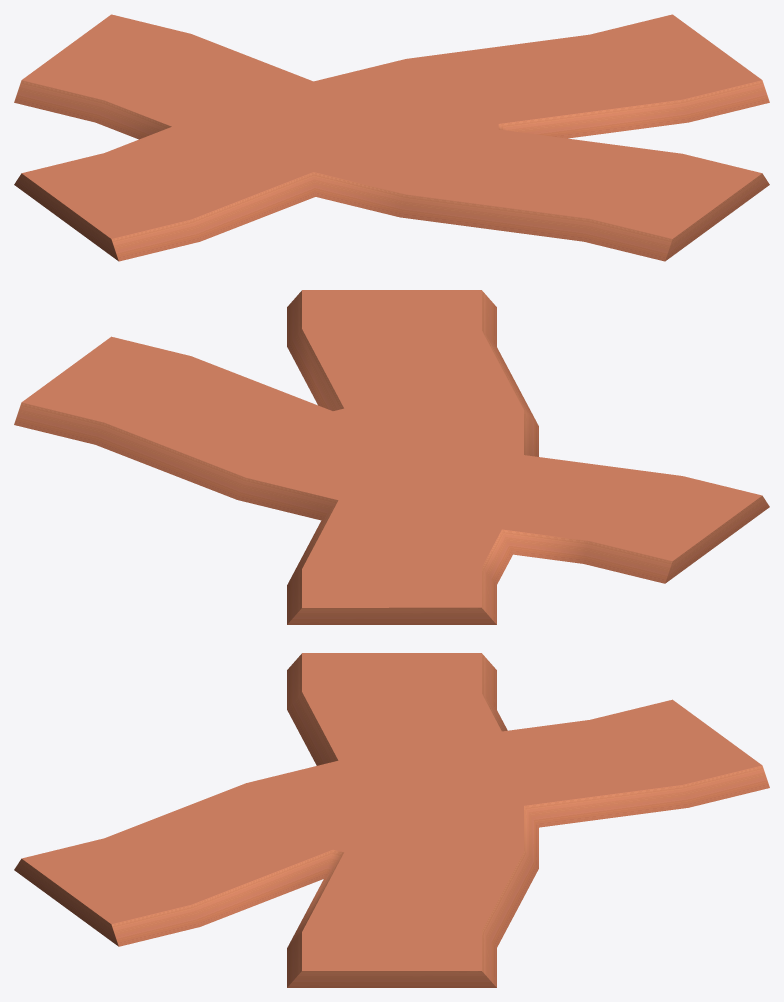
Rendered from path-intersection-e.glb.
3 views of the same model, one above another, from view 1: azimuth 30°, elevation 25°; view 2: azimuth 150°, elevation 25°; view 3: azimuth 270°, elevation 25° (orthographic).
Parts seen in each view (by area): view 1: path-intersectionE; view 2: path-intersectionE; view 3: path-intersectionE.
Part boxes in pixels (x1=…): path-intersectionE: x1=14, y1=14, x2=769, y2=261; path-intersectionE: x1=14, y1=290, x2=769, y2=624; path-intersectionE: x1=14, y1=653, x2=769, y2=987.
Bounding box in the file's own units: 1 × 0.025 × 1.01.
1 material, 1 textured.
